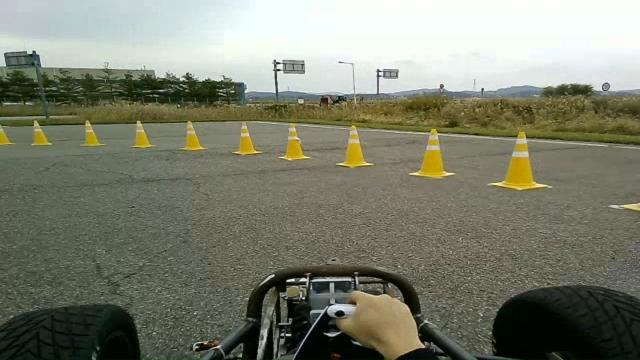yellow cone: (488, 131, 551, 190), (408, 128, 455, 178), (334, 124, 374, 168), (278, 122, 310, 160), (232, 121, 262, 155), (178, 120, 208, 150), (128, 120, 156, 148), (79, 120, 105, 146), (30, 119, 52, 146), (0, 124, 16, 146)
